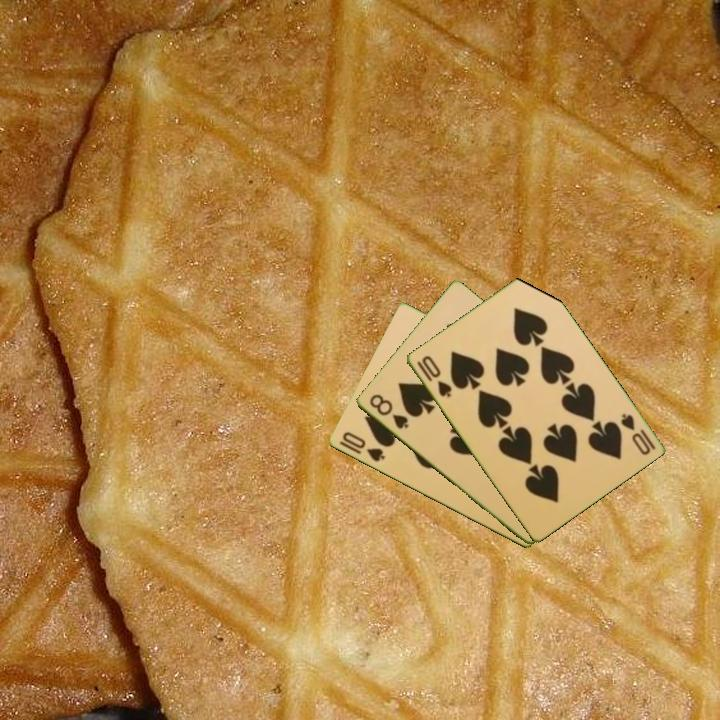10s: (413, 352, 455, 401), (617, 410, 658, 458), (338, 428, 387, 465)
8s: (365, 390, 411, 432)
